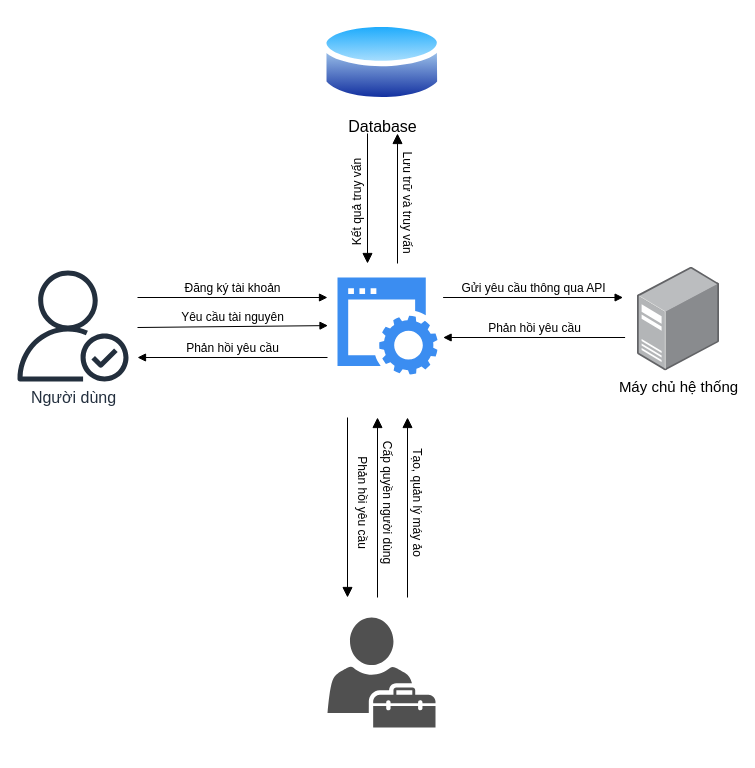
Image size: 755x768. Some labels were removed from this diagram. Each missing label, with the centre of its shape:
"Người quản trị" goes at point 381,672.
"Website" goes at point 387,325.
